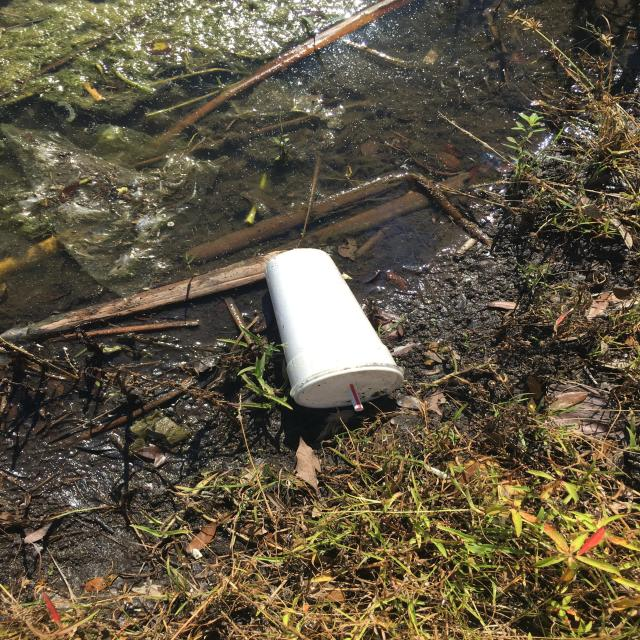litter: (263, 249, 405, 413)
